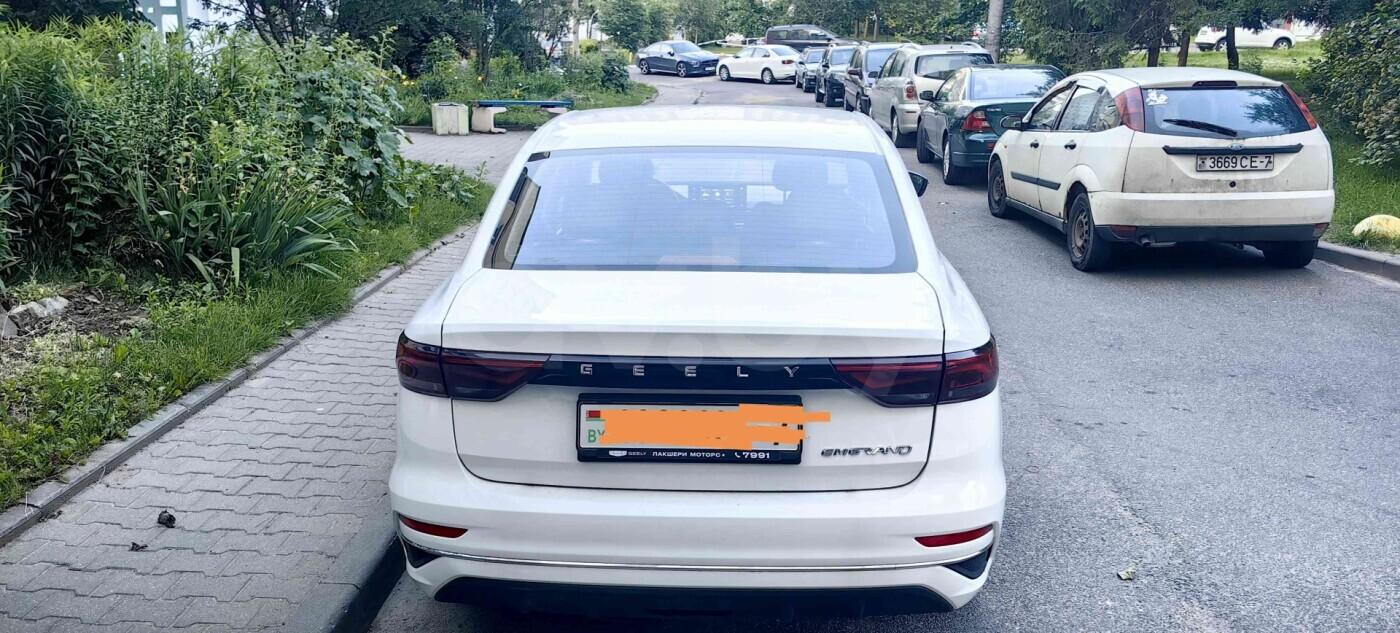Emgrand_2021: (384, 92, 1013, 629)
